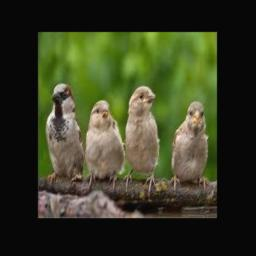Sparrow: (45, 82, 84, 187), (123, 86, 159, 195), (170, 101, 209, 194), (85, 100, 125, 186)
